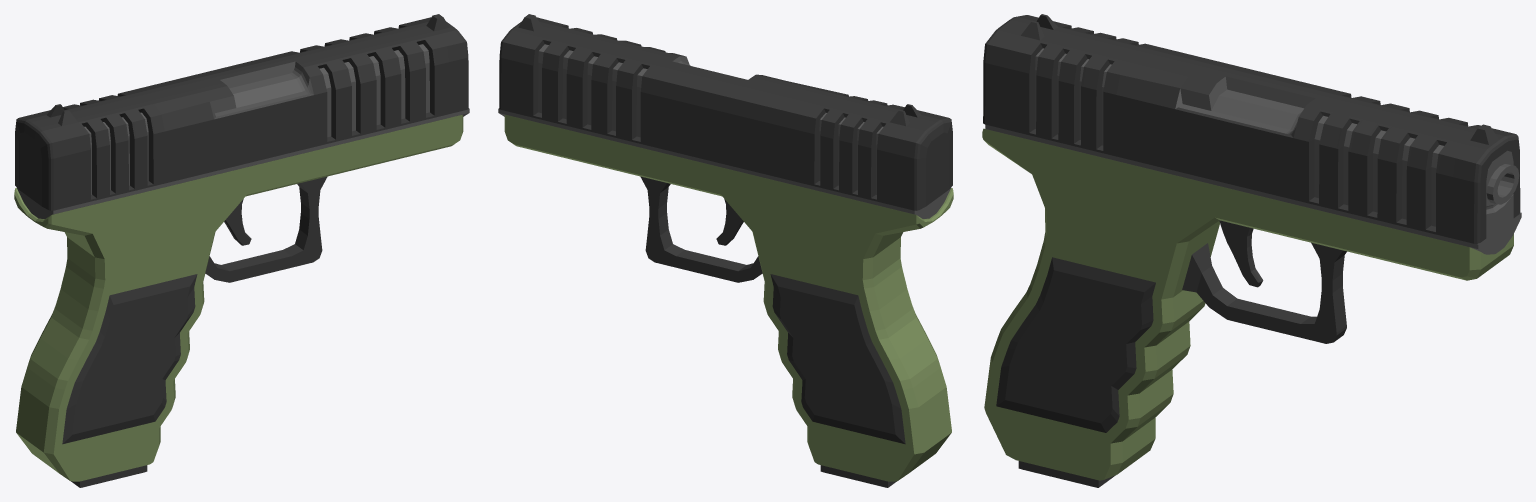
The model's file is Glock19-Pistol.fbx.
The picture shows the model from 3 angles, left to right: view 1: azimuth 30°, elevation 25°; view 2: azimuth 150°, elevation 25°; view 3: azimuth 330°, elevation 25°; orthographic projection. The views are drawn at different scales.
Visible parts, largest first — view 1: Glock 19, Glock Hammer, Glock Trigger, Glock Mag; view 2: Glock 19, Glock Hammer, Glock Trigger, Glock Mag; view 3: Glock 19, Glock Hammer, Glock Trigger, Glock Mag.
Boxes of the visible parts, box(x1,y1,x2,y2) form: Glock 19: box(14, 108, 469, 481); Glock Hammer: box(15, 14, 468, 210); Glock Trigger: box(224, 199, 251, 245); Glock Mag: box(71, 465, 147, 487); Glock 19: box(498, 108, 953, 481); Glock Hammer: box(499, 14, 952, 210); Glock Trigger: box(716, 199, 743, 245); Glock Mag: box(820, 465, 896, 487); Glock 19: box(982, 124, 1521, 480); Glock Hammer: box(983, 14, 1520, 243); Glock Trigger: box(1219, 220, 1263, 287); Glock Mag: box(1018, 461, 1115, 487).
Size of the model in its own units: 228 by 188 by 36.13.
